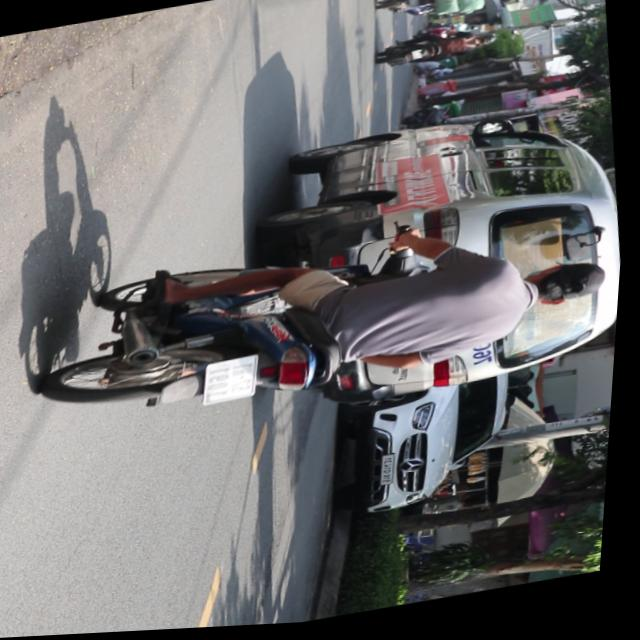licenseplate: (21, 193, 627, 458)
motorcyclist: (525, 262, 615, 317)
nohelmet: (205, 358, 264, 408)
